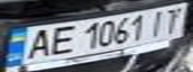0: (97, 18, 118, 47)
1: (75, 20, 103, 51), (127, 11, 151, 43)
6: (112, 15, 136, 45)
A: (18, 27, 60, 61)
E: (42, 24, 78, 57)
I: (145, 7, 172, 38)
T: (157, 6, 190, 35)
